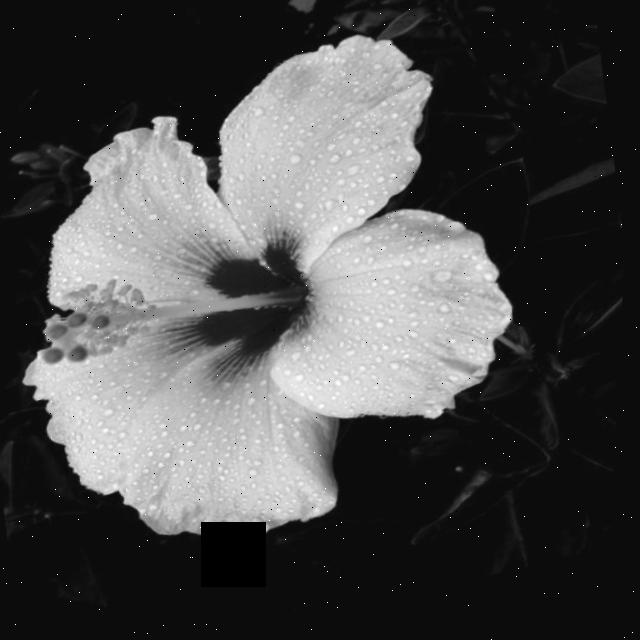hibiscus: (0, 0, 602, 633)
